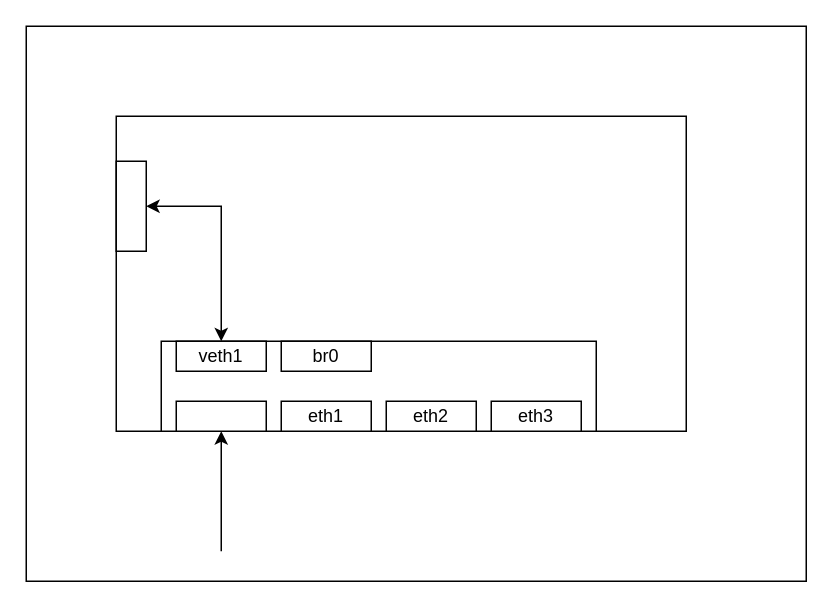
Some shapes in this 833 by 608 pixel diagram are drawn without their labels. The centre of each missing label's shape, as x and y in pixels:
"eth0" goes at (x=220, y=415).
"veth0" goes at (x=130, y=205).
